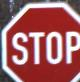Stop sign: (0, 0, 79, 81)
